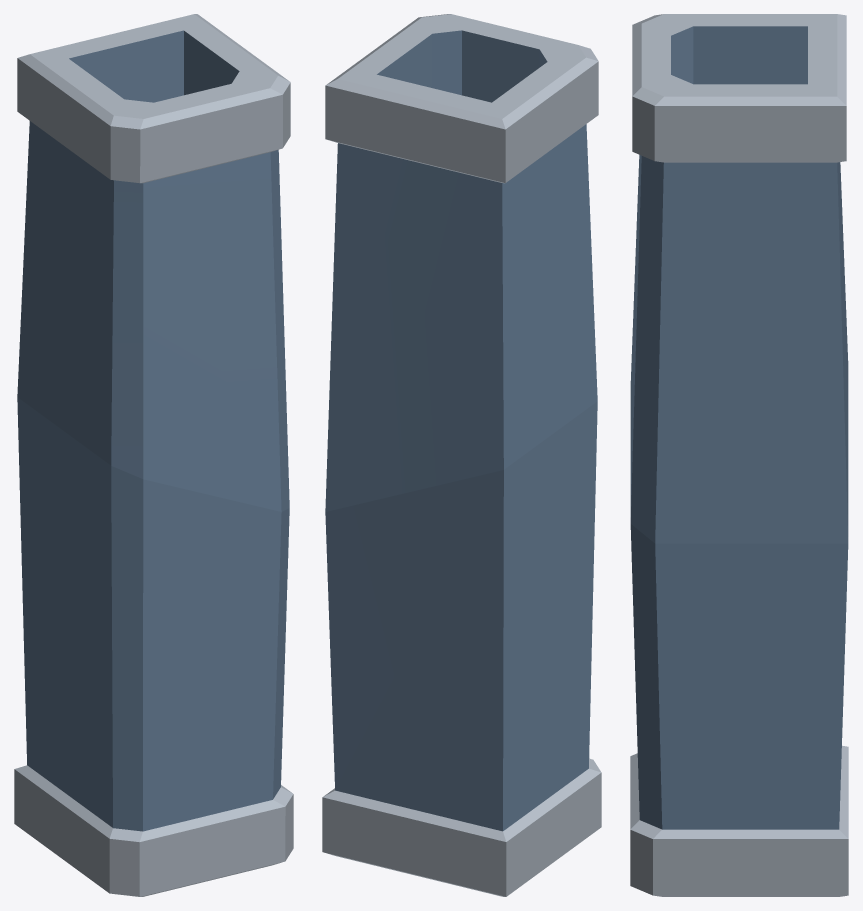
File: Support.glb
3 views of the same model, side by side, from view 1: azimuth 30°, elevation 25°; view 2: azimuth 150°, elevation 25°; view 3: azimuth 270°, elevation 25° (orthographic). The views are drawn at different scales.
Visible parts, largest first — view 1: squre_pipe.007; view 2: squre_pipe.007; view 3: squre_pipe.007.
Part boxes in pixels (x1,y1,x2,y2): squre_pipe.007: (14, 14, 293, 896); squre_pipe.007: (322, 14, 601, 896); squre_pipe.007: (630, 14, 848, 896).
Size of the model in its own units: 0.79 by 3.19 by 0.79.
1 material, 1 textured.
